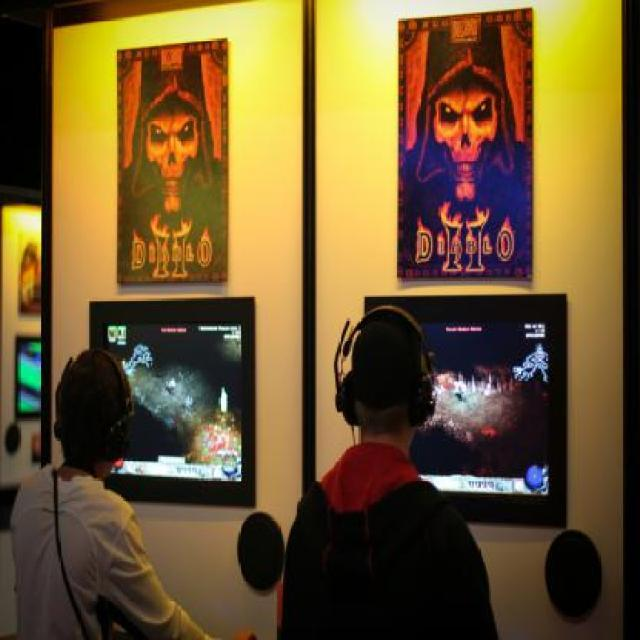earphone: (322, 295, 446, 423), (46, 363, 152, 462)
